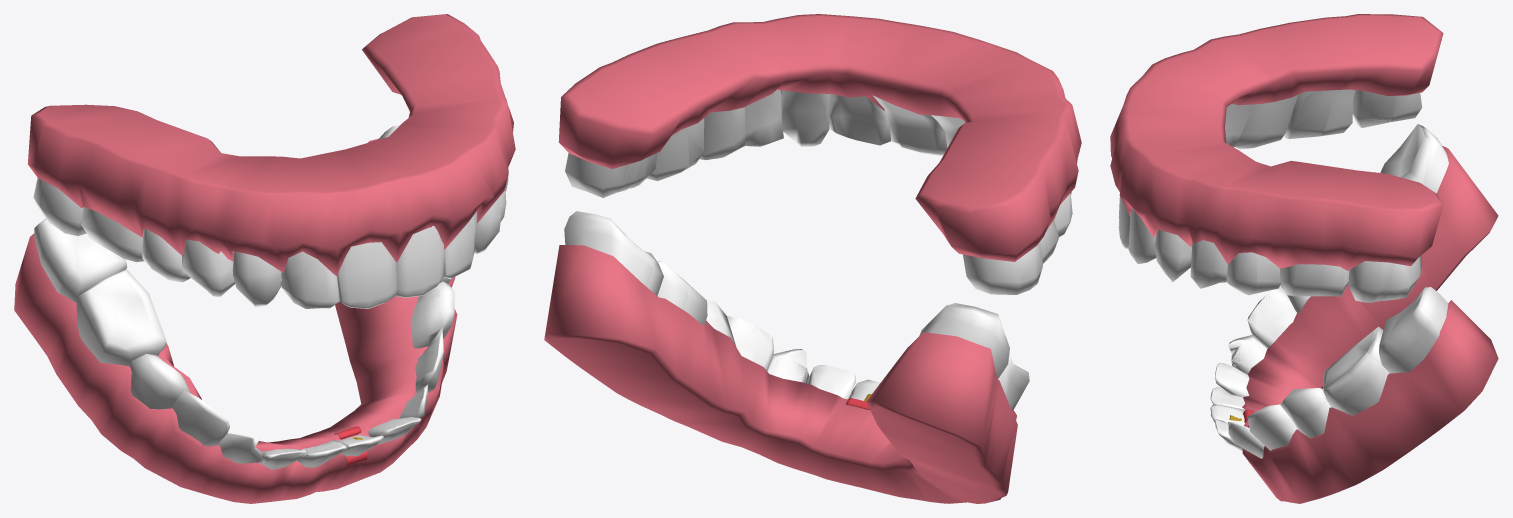
File: GumsFix.fbx
3 views of the same model, side by side, from view 1: azimuth 30°, elevation 25°; view 2: azimuth 150°, elevation 25°; view 3: azimuth 270°, elevation 25° (orthographic). The views are drawn at different scales.
Parts seen in each view (by area): view 1: DientesGums, Dientes, DientesGumsElevation1, DientesGumsIncision2, DientesGumsIncision1, DientesDrill3, CrownModel; view 2: DientesGumsElevation1, DientesDrill3, DientesGums, DientesGumsIncision2, DientesGumsIncision1, Dientes, DientesGumsIncision3; view 3: DientesGums, DientesGumsElevation1, Dientes, DientesDrill3, DientesGumsIncision2, DientesGumsIncision1, CrownModel.
Part boxes in pixels (x1,y1,x2,y2): DientesGums: (14,15,515,503); Dientes: (39,126,508,469); DientesGumsElevation1: (14,14,500,449); DientesGumsIncision2: (31,15,500,465); DientesGumsIncision1: (34,16,500,399); DientesDrill3: (33,125,448,462); CrownModel: (333,435,383,456); DientesGumsElevation1: (544,17,1078,503); DientesDrill3: (564,89,1069,399); DientesGums: (569,14,1081,491); DientesGumsIncision2: (565,16,1072,472); DientesGumsIncision1: (569,16,1078,426); Dientes: (611,90,1072,410); DientesGumsIncision3: (826,406,873,454); DientesGums: (1110,14,1463,503); DientesGumsElevation1: (1127,14,1498,484); Dientes: (1118,90,1436,458); DientesDrill3: (1139,89,1448,439); DientesGumsIncision2: (1129,14,1480,473); DientesGumsIncision1: (1123,15,1461,440); CrownModel: (1210,405,1244,425).
Size of the model in its own units: 373 by 304 by 295.
